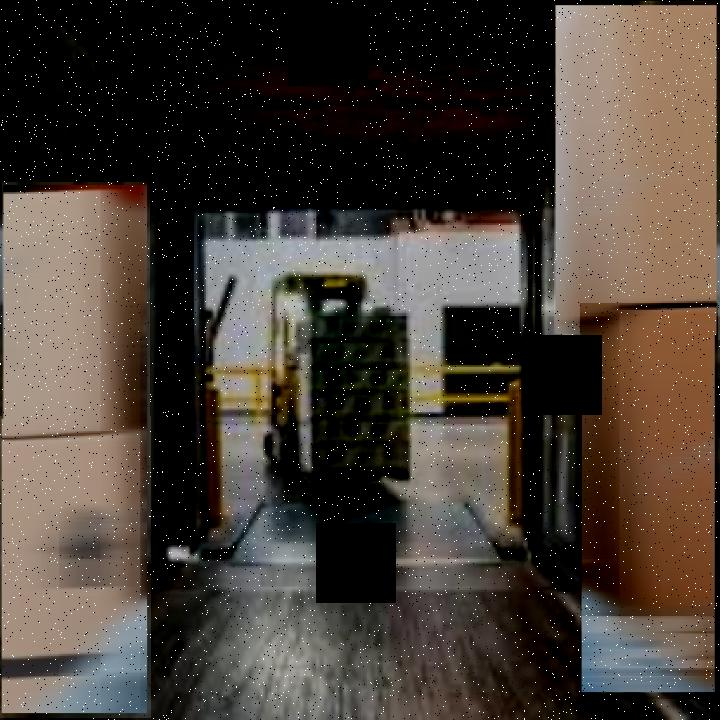box: (554, 1, 720, 340), (580, 303, 718, 699), (0, 416, 151, 718), (2, 182, 150, 446)
